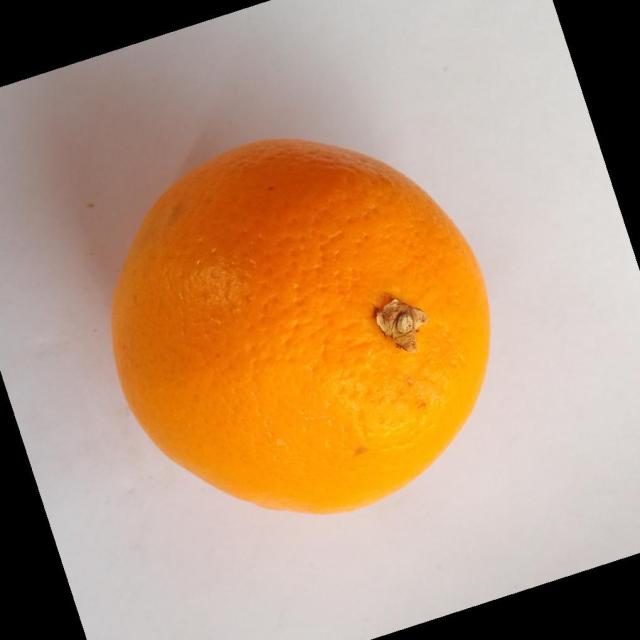fresh orange: (109, 136, 491, 515)
